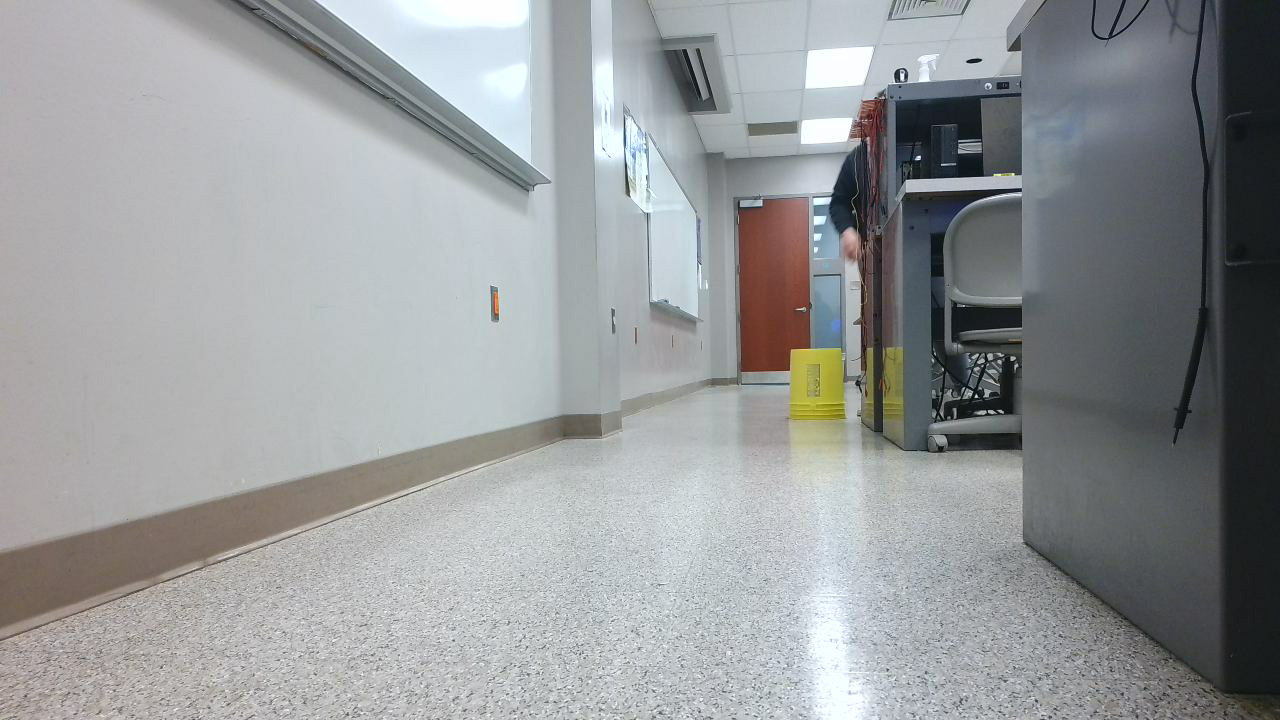yellow_bucket: (789, 350, 854, 430)
